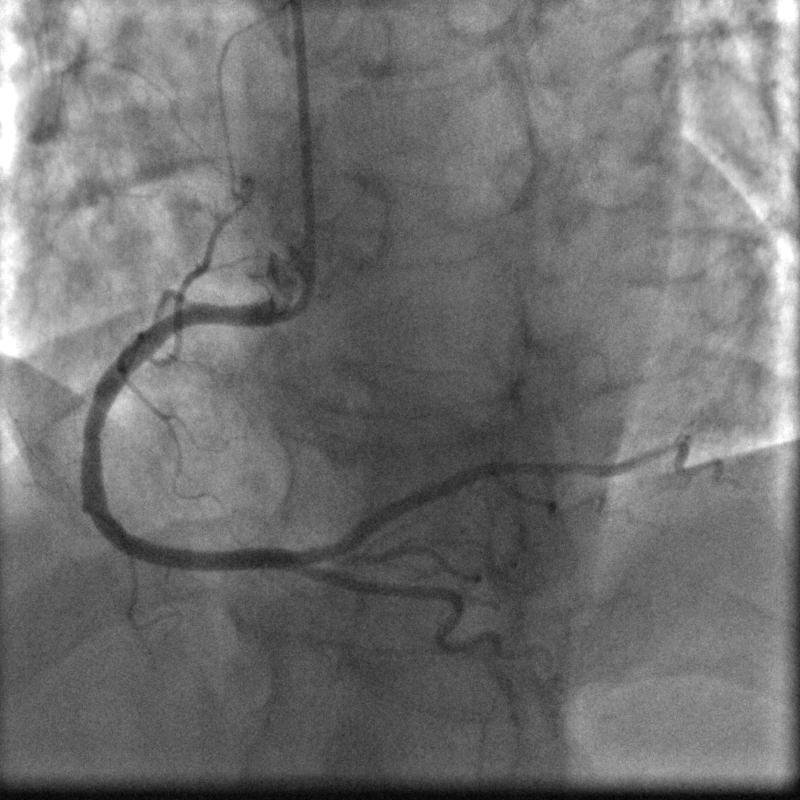Stenosis: (72, 407, 102, 455)
